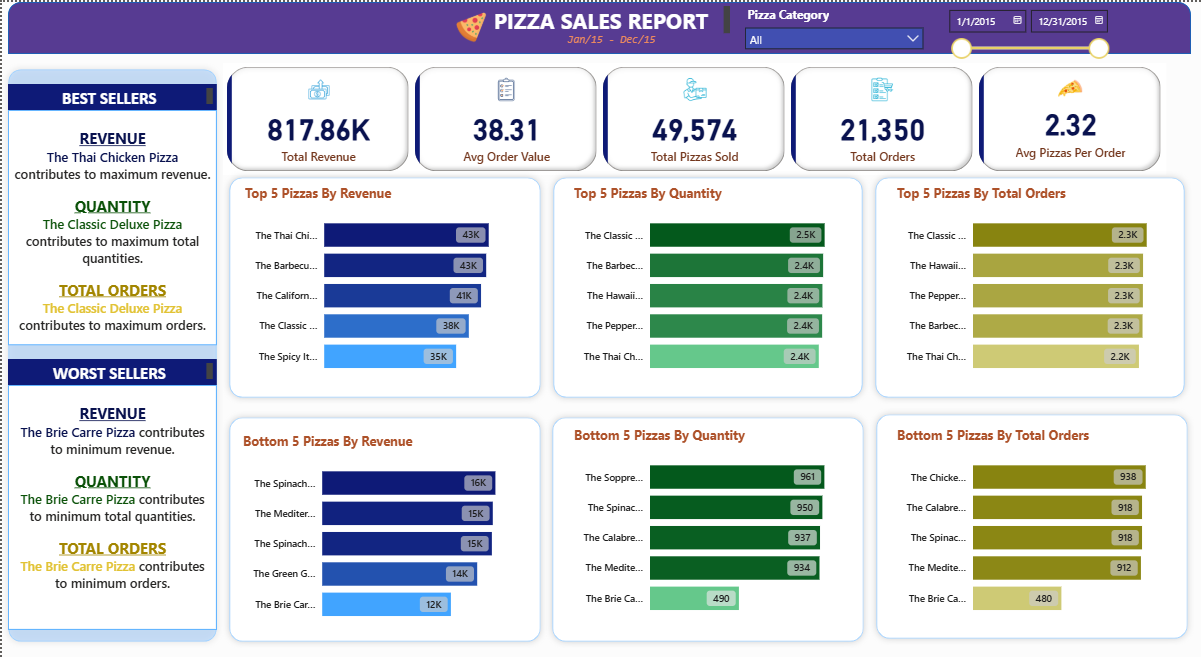

What the dashboard file says about the page in this screenshot:
{"tool":"powerbi","page":{"name":"Best/Worst Sellers","canvas":[1500,820],"ordinal":1},"visuals":[{"type":"cardVisual","fields":{"Data":["pizza_sales.Total Revenue","pizza_sales.Total Pizzas Sold","pizza_sales.Total Orders","pizza_sales.Avg Pizzas Per Order"]},"box":[276.2,76.2,1178.8,140],"z":0},{"type":"shape","box":[7.5,0,1478.8,65],"z":1000},{"type":"textbox","box":[610,0,305,45],"z":2000},{"type":"textbox","box":[696.2,32.5,131.2,32.5],"z":3000},{"type":"image","box":[562.5,7.5,47.5,48.8],"z":4000},{"type":"shape","box":[276.2,211.2,405,291.2],"z":5000},{"type":"shape","box":[0,76.2,276.2,731.2],"z":15000},{"type":"textbox","box":[7.5,102.5,261.2,32.5],"z":16000},{"type":"textbox","box":[7.5,135,261.2,293.8],"z":17000},{"type":"textbox","box":[7.5,446.2,261.2,32.5],"z":18000},{"type":"textbox","box":[7.5,478.8,261.2,306.2],"z":19000},{"type":"slicer","fields":{"Values":["pizza_sales.pizza_category"]},"box":[918.8,0,242.5,65],"z":20000},{"type":"slicer","fields":{"Values":["pizza_sales.order_date"]},"box":[1171.2,0,221.2,76.2],"z":21000},{"type":"shape","box":[681.2,211.2,402.5,291.2],"z":21001},{"type":"shape","box":[1083.8,211.2,402.5,291.2],"z":21002},{"type":"shape","box":[276.2,511.2,405,296.2],"z":21003},{"type":"shape","box":[680,511.2,405,296.2],"z":21004},{"type":"shape","box":[1085,507.5,405,296.2],"z":21005},{"type":"barChart","title":"Top 5 Pizzas By Revenue","fields":{"Category":["pizza_sales.pizza_name"],"Y":["pizza_sales.Total Revenue"]},"box":[298.8,227.5,365,251.2],"z":21006},{"type":"barChart","title":"Bottom 5 Pizzas By Revenue","fields":{"Category":["pizza_sales.pizza_name"],"Y":["pizza_sales.Total Revenue"]},"box":[296.2,537.5,365,251.2],"z":21007},{"type":"barChart","title":"Top 5 Pizzas By Quantity","fields":{"Category":["pizza_sales.pizza_name"],"Y":["pizza_sales.Total Pizzas Sold"]},"box":[710,227.5,347.5,251.2],"z":21008},{"type":"barChart","title":"Bottom 5 Pizzas By Quantity","fields":{"Category":["pizza_sales.pizza_name"],"Y":["pizza_sales.Total Pizzas Sold"]},"box":[710,530,347.5,251.2],"z":21009},{"type":"barChart","title":"Top 5 Pizzas By Total Orders","fields":{"Category":["pizza_sales.pizza_name"],"Y":["pizza_sales.Total Orders"]},"box":[1113.8,227.5,347.5,251.2],"z":21010},{"type":"barChart","title":"Bottom 5 Pizzas By Total Orders","fields":{"Category":["pizza_sales.pizza_name"],"Y":["pizza_sales.Total Orders"]},"box":[1113.8,530,347.5,251.2],"z":21011}]}

Visuals, with their boxes in screenshot pixels (x1, y1, x2, y2), scaled from the page's 1500x820 canvas onto the 1201x657 screenshot:
cardVisual - pizza_sales.Total Revenue x pizza_sales.Total Pizzas Sold: BBox(221, 61, 1165, 173)
shape: BBox(6, 0, 1190, 52)
textbox: BBox(488, 0, 733, 36)
textbox: BBox(557, 26, 662, 52)
image: BBox(450, 6, 488, 45)
shape: BBox(221, 169, 545, 403)
shape: BBox(0, 61, 221, 647)
textbox: BBox(6, 82, 215, 108)
textbox: BBox(6, 108, 215, 344)
textbox: BBox(6, 358, 215, 384)
textbox: BBox(6, 384, 215, 629)
slicer - pizza_sales.pizza_category: BBox(736, 0, 930, 52)
slicer - pizza_sales.order_date: BBox(938, 0, 1115, 61)
shape: BBox(545, 169, 868, 403)
shape: BBox(868, 169, 1190, 403)
shape: BBox(221, 410, 545, 647)
shape: BBox(544, 410, 869, 647)
shape: BBox(869, 407, 1193, 644)
"Top 5 Pizzas By Revenue" barChart: BBox(239, 182, 531, 384)
"Bottom 5 Pizzas By Revenue" barChart: BBox(237, 431, 529, 632)
"Top 5 Pizzas By Quantity" barChart: BBox(568, 182, 847, 384)
"Bottom 5 Pizzas By Quantity" barChart: BBox(568, 425, 847, 626)
"Top 5 Pizzas By Total Orders" barChart: BBox(892, 182, 1170, 384)
"Bottom 5 Pizzas By Total Orders" barChart: BBox(892, 425, 1170, 626)
